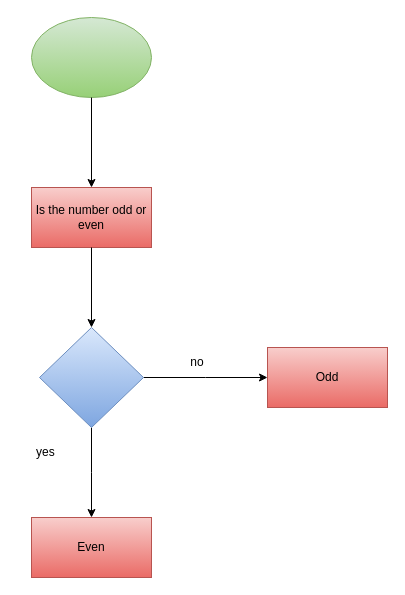
Image size: 405x595. Some labels were removed from this diagram. Here are the shapes that lost their labels. From the top down, the centre of each, then its label:
At point (91, 57): "START".
At point (91, 377): "Is it divisible by 2".
